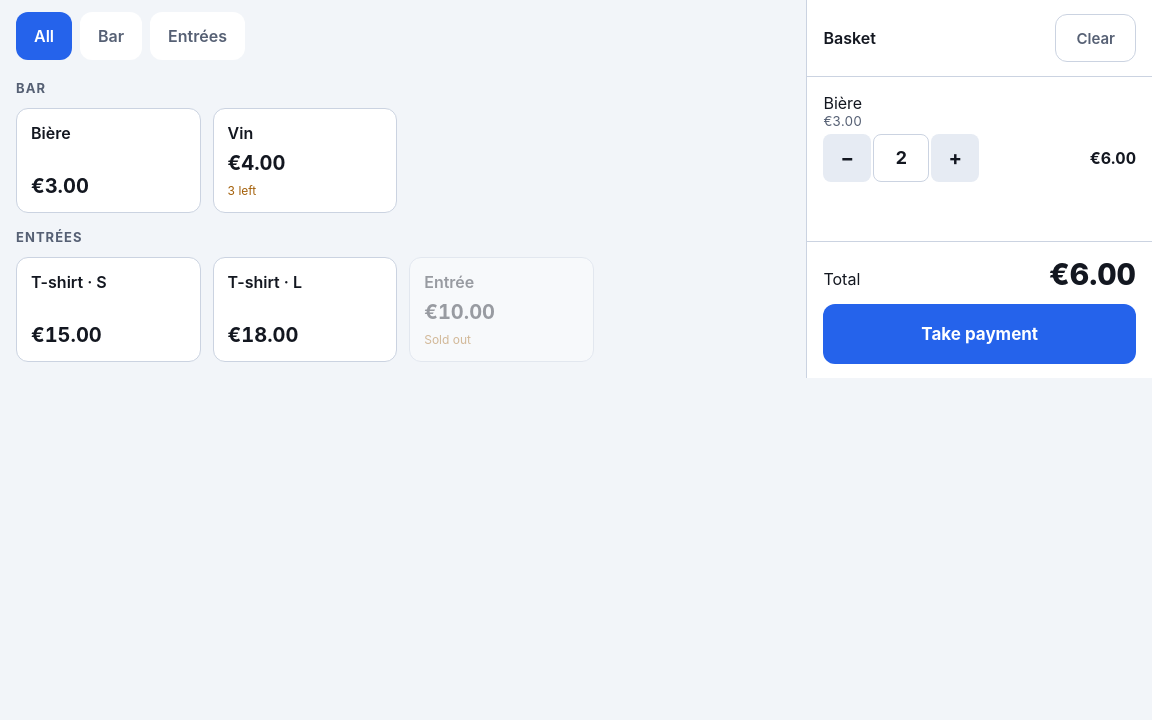
Test: how many › sets the line in one tap
Step 1. Click the button "2" → (901, 158), box 873,134 -> 929,182
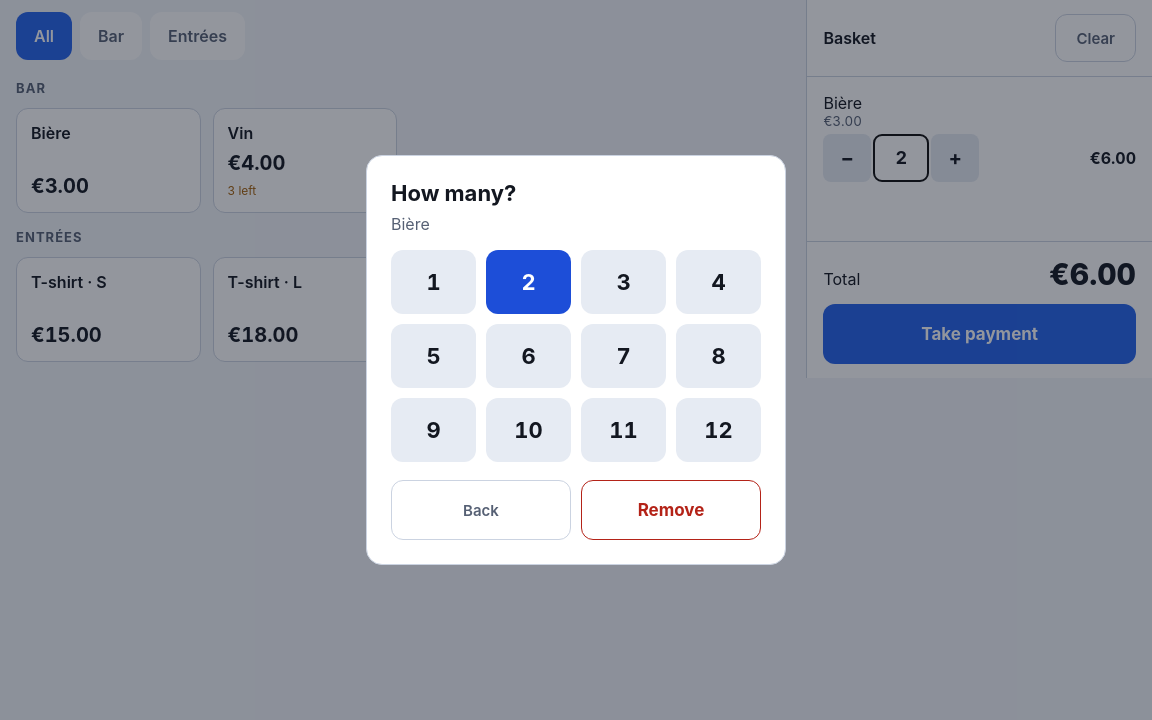
Step 2. Click the button "6" → (528, 356), box 486,324 -> 571,388
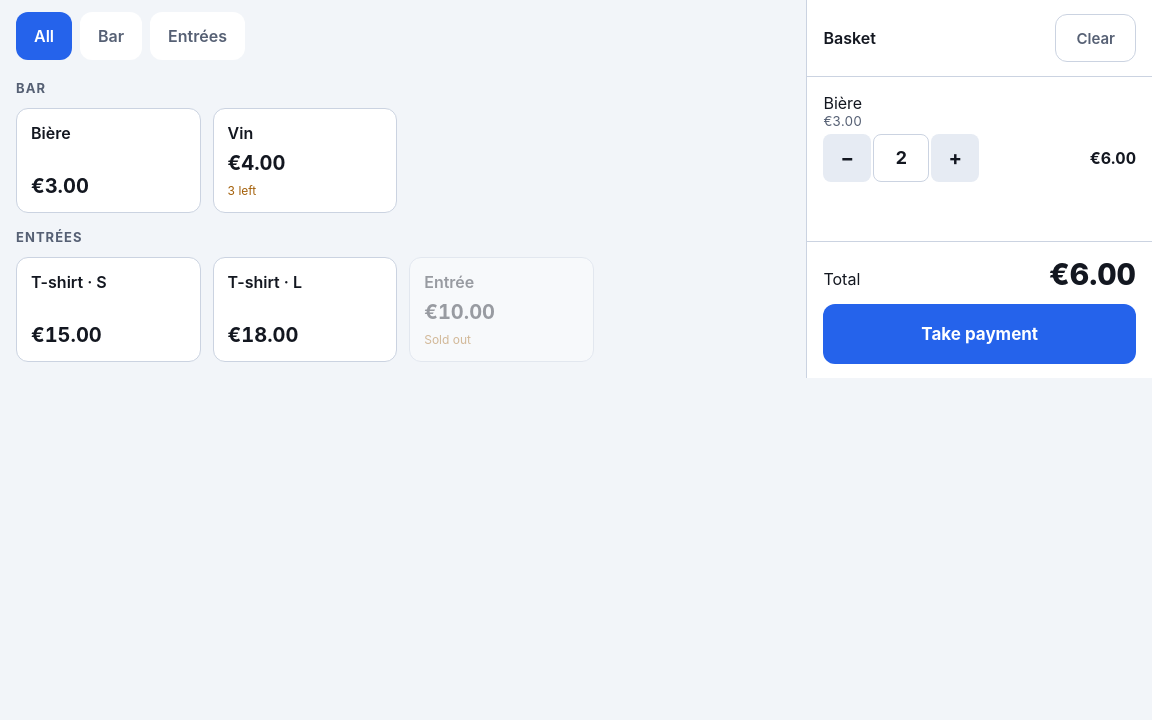
Now the heading "How many?" is gone
